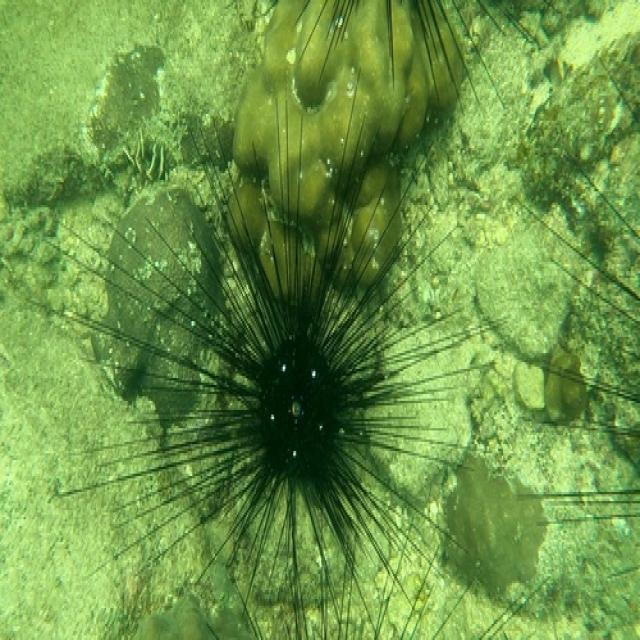Urchin: (50, 71, 486, 604)
